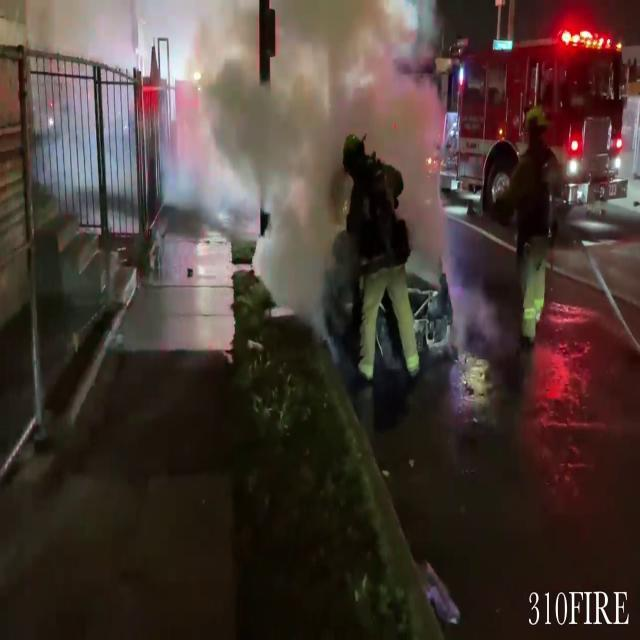Smoke: (188, 1, 416, 314)
